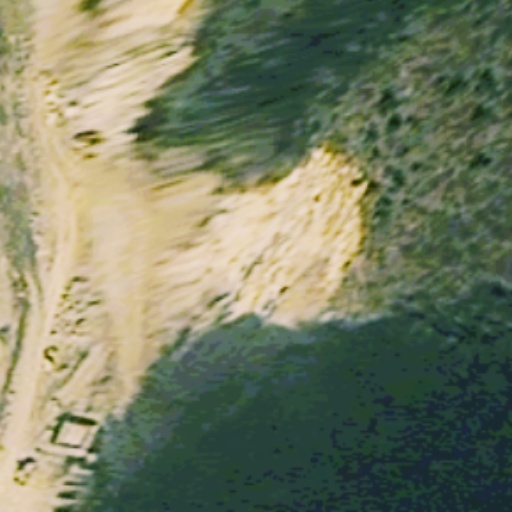landslide: (188, 155, 373, 326)
